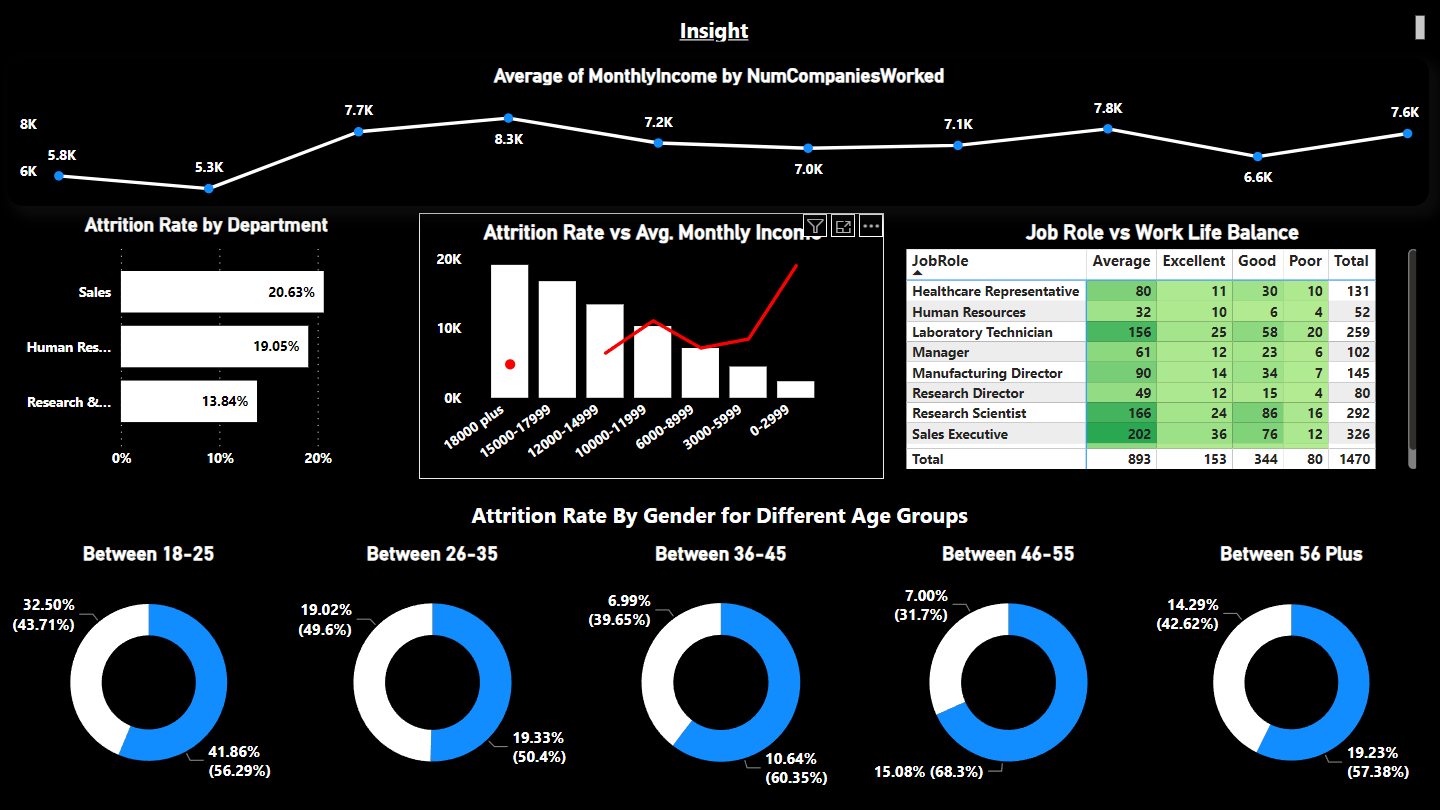

This screenshot's page, from the dashboard's own definition file:
{"tool":"powerbi","page":{"name":"Insights","canvas":[1280,720],"ordinal":1},"visuals":[{"type":"donutChart","title":"Between 18-25","fields":{"Category":["HR-Employee-Attrition.Gender"],"Y":["HR-Employee-Attrition.Attrition Rate"],"Series":["HR-Employee-Attrition.Age Bucket"]},"box":[8.6,480.4,249.4,229.8],"z":0},{"type":"textbox","box":[8.6,435.2,1261.5,45.2],"z":1000},{"type":"donutChart","title":"Between 26-35","fields":{"Category":["HR-Employee-Attrition.Gender"],"Y":["HR-Employee-Attrition.Attrition Rate"],"Series":["HR-Employee-Attrition.Age Bucket"]},"box":[257.9,480.4,254.3,229.8],"z":2000},{"type":"donutChart","title":"Between 36-45","fields":{"Category":["HR-Employee-Attrition.Gender"],"Y":["HR-Employee-Attrition.Attrition Rate"],"Series":["HR-Employee-Attrition.Age Bucket"]},"box":[512.2,480.4,256.7,229.8],"z":3000},{"type":"donutChart","title":"Between 46-55","fields":{"Category":["HR-Employee-Attrition.Gender"],"Y":["HR-Employee-Attrition.Attrition Rate"],"Series":["HR-Employee-Attrition.Age Bucket"]},"box":[768.9,480.4,254.3,229.8],"z":4000},{"type":"donutChart","title":"Between 56 Plus","fields":{"Category":["HR-Employee-Attrition.Gender"],"Y":["HR-Employee-Attrition.Attrition Rate"],"Series":["HR-Employee-Attrition.Age Bucket"]},"box":[1023.2,480.4,246.9,229.8],"z":5000},{"type":"pivotTable","title":"Job Role vs Work Life Balance","fields":{"Rows":["HR-Employee-Attrition.JobRole"],"Columns":["HR-Employee-Attrition.Work Life Bal"],"Values":["CountNonNull(HR-Employee-Attrition.Work Life Bal)"]},"box":[795.4,189.8,474.4,235.9],"z":6000},{"type":"lineStackedColumnComboChart","title":"Attrition Rate vs Avg. Monthly Income ","fields":{"Category":["HR-Employee-Attrition.Monthly Income Bucket"],"Y":["Avg(HR-Employee-Attrition.MonthlyIncome)"],"Y2":["HR-Employee-Attrition.Attrition Rate"]},"box":[374.2,189.8,412.3,235.9],"z":7000},{"type":"clusteredBarChart","fields":{"Category":["HR-Employee-Attrition.Department"],"Y":["HR-Employee-Attrition.Attrition Rate"]},"box":[8.9,189.8,353.8,235.9],"z":8000},{"type":"lineChart","fields":{"Y":["Avg(HR-Employee-Attrition.MonthlyIncome)"],"Category":["HR-Employee-Attrition.NumCompaniesWorked"]},"box":[8.9,51.4,1260.9,132.1],"z":9000},{"type":"textbox","box":[8.9,9.8,1261.8,32.8],"z":10000}]}

Visuals, with their boxes in screenshot pixels (x1, y1, x2, y2), scaled from the page's 1280x720 canvas onto the 1440x810 screenshot:
"Between 18-25" donutChart: detection(10, 540, 290, 799)
textbox: detection(10, 490, 1429, 540)
"Between 26-35" donutChart: detection(290, 540, 576, 799)
"Between 36-45" donutChart: detection(576, 540, 865, 799)
"Between 46-55" donutChart: detection(865, 540, 1151, 799)
"Between 56 Plus" donutChart: detection(1151, 540, 1429, 799)
"Job Role vs Work Life Balance" pivotTable: detection(895, 214, 1429, 479)
"Attrition Rate vs Avg. Monthly Income " lineStackedColumnComboChart: detection(421, 214, 885, 479)
clusteredBarChart - HR-Employee-Attrition.Department x HR-Employee-Attrition.Attrition Rate: detection(10, 214, 408, 479)
lineChart - Avg(HR-Employee-Attrition.MonthlyIncome) x HR-Employee-Attrition.NumCompaniesWorked: detection(10, 58, 1429, 206)
textbox: detection(10, 11, 1430, 48)
